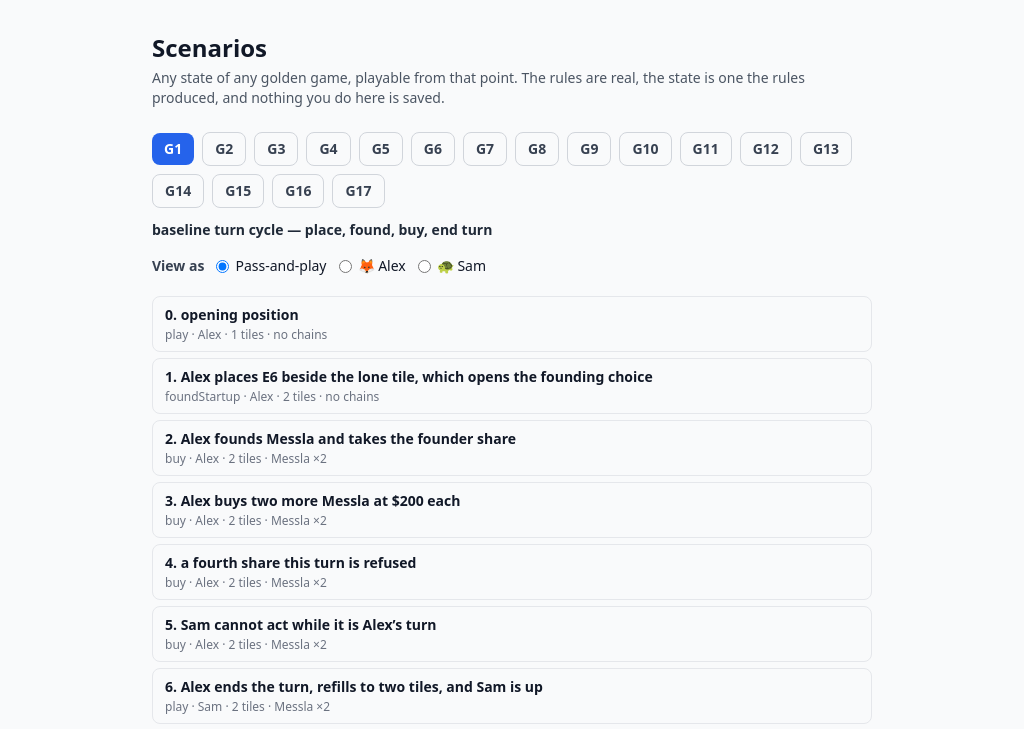
Test: ScenarioPage › can show the game as one seat sees it, which is the online view
Click the radio button labelled "🦊 Alex": (345, 266) [338, 260, 352, 272]
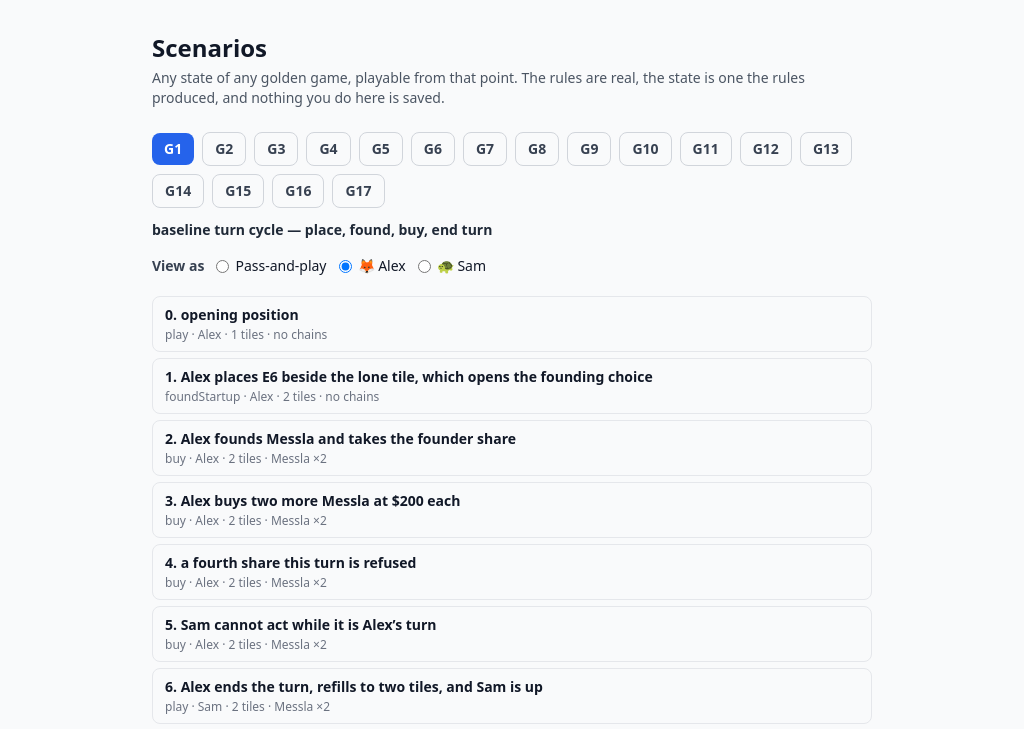
Click the text "0. opening position": (232, 315) [165, 305, 299, 325]
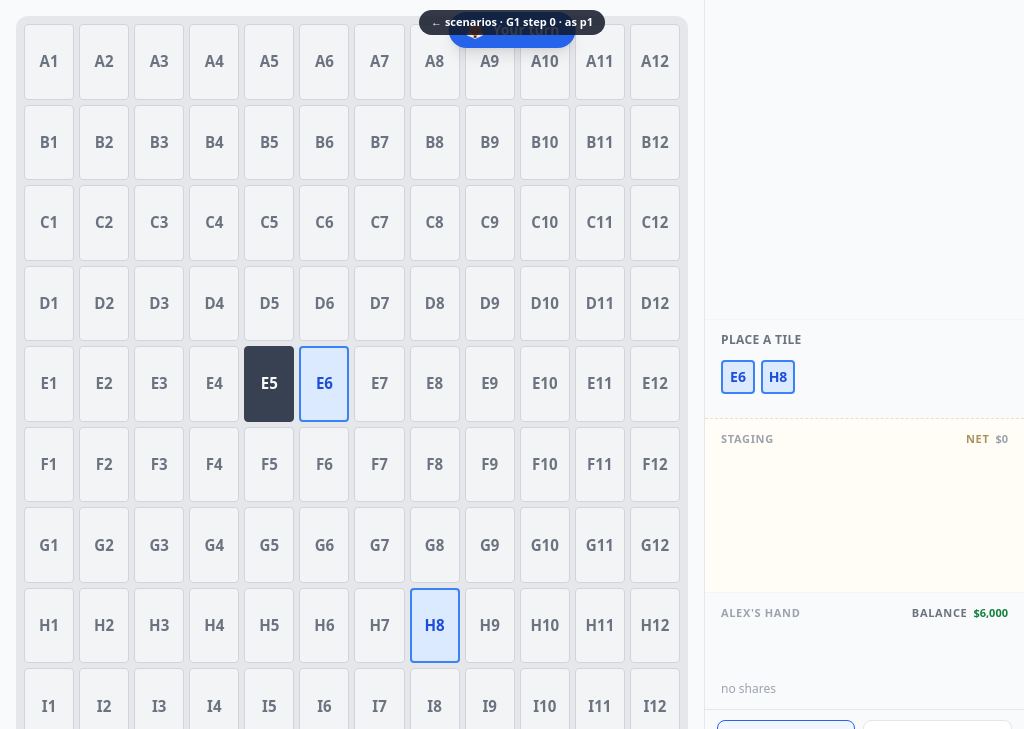
Check: the button "← scenarios · G1 step 0 · as p1" is shown, box [419, 10, 605, 34]
